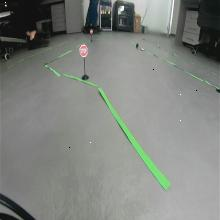stop: (80, 44, 88, 58)
